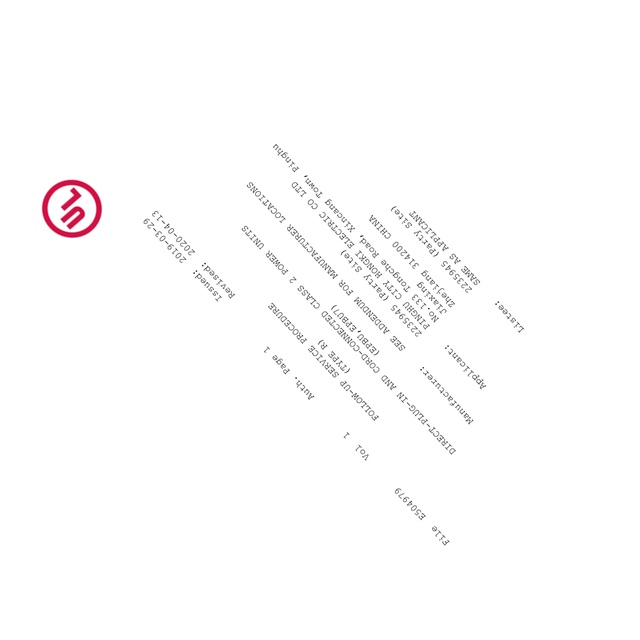ul: (41, 179, 103, 238)
